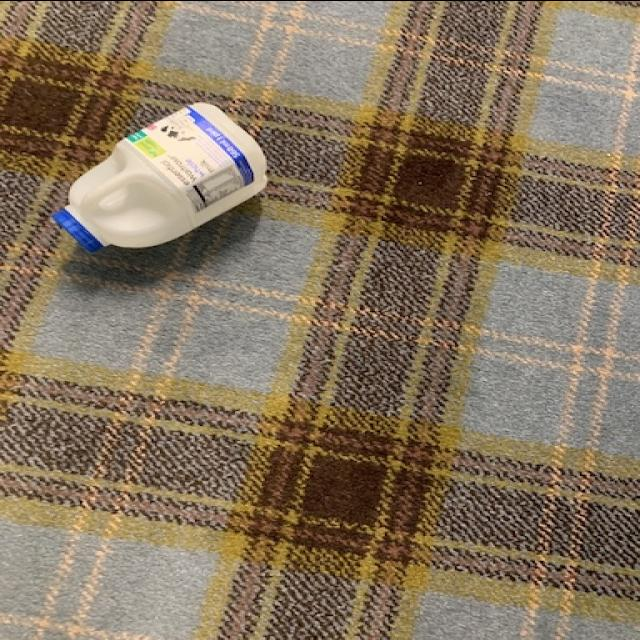litter: (52, 98, 284, 248)
